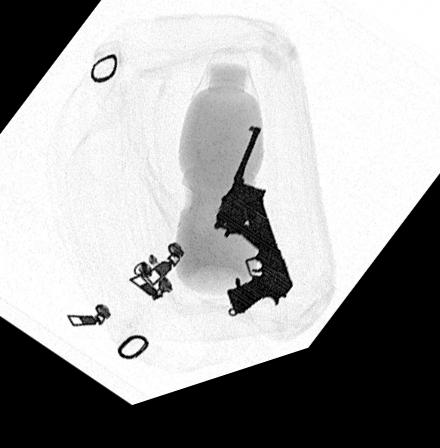Gun: (211, 140, 279, 274), (226, 213, 292, 330)
